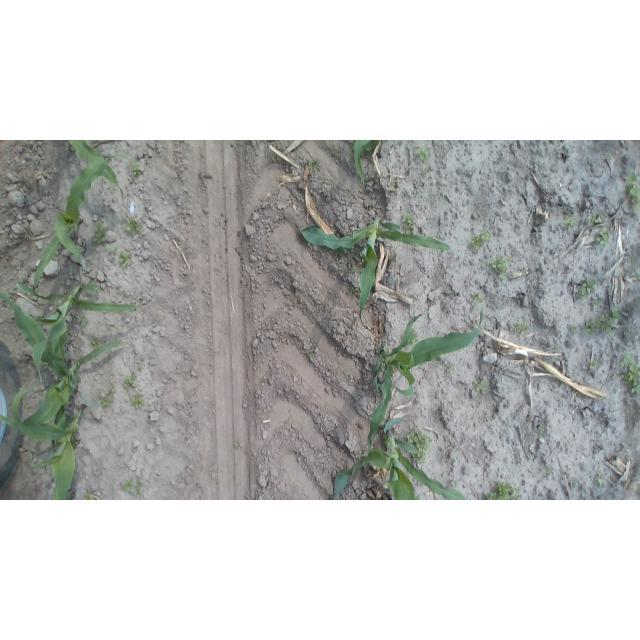Maize: (366, 305, 487, 455), (0, 289, 122, 426), (297, 213, 451, 321), (32, 153, 136, 290), (16, 280, 144, 386), (328, 415, 476, 499), (1, 404, 91, 500), (67, 140, 126, 198), (353, 140, 376, 190)
Weeds: (585, 308, 624, 336), (407, 428, 434, 468), (618, 354, 640, 395), (482, 480, 526, 500), (624, 170, 640, 212), (489, 253, 513, 279), (119, 477, 146, 500), (467, 226, 492, 250), (89, 223, 111, 246), (575, 277, 597, 299), (123, 216, 143, 235), (596, 227, 613, 248), (628, 254, 640, 283), (510, 319, 529, 337), (400, 211, 416, 231), (122, 374, 139, 391), (471, 377, 489, 393), (119, 251, 134, 270), (308, 157, 321, 176), (98, 394, 114, 409), (131, 393, 145, 410), (406, 328, 419, 346), (89, 336, 104, 351), (471, 291, 485, 307), (81, 490, 102, 500), (76, 312, 90, 327), (416, 147, 430, 162), (345, 284, 360, 298), (587, 211, 600, 227), (563, 215, 577, 229), (586, 360, 600, 373), (331, 248, 350, 257), (590, 297, 603, 309), (594, 474, 606, 487), (106, 246, 118, 257), (132, 163, 144, 174), (232, 441, 244, 451), (535, 427, 545, 439), (448, 288, 459, 298), (543, 466, 553, 477), (420, 166, 429, 178), (448, 476, 457, 488), (305, 348, 315, 358), (568, 324, 578, 333), (447, 364, 457, 373), (626, 406, 634, 417), (106, 388, 115, 397), (136, 364, 144, 373), (606, 155, 614, 163), (351, 247, 360, 254)
